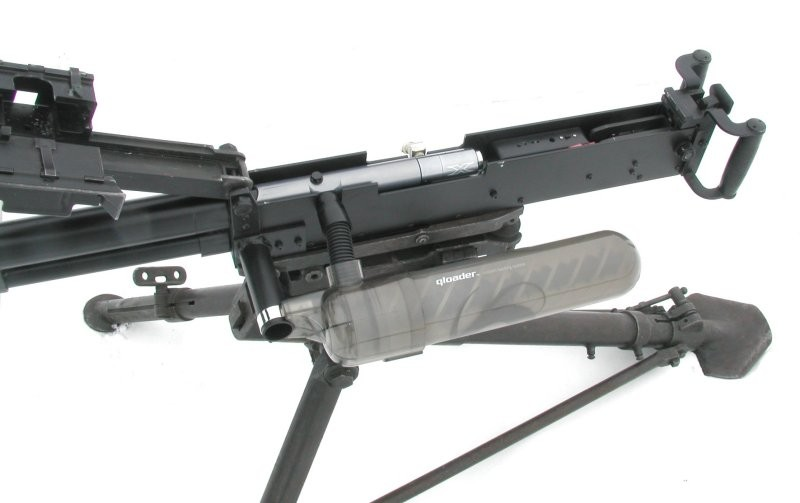rifle: (1, 44, 776, 484)
